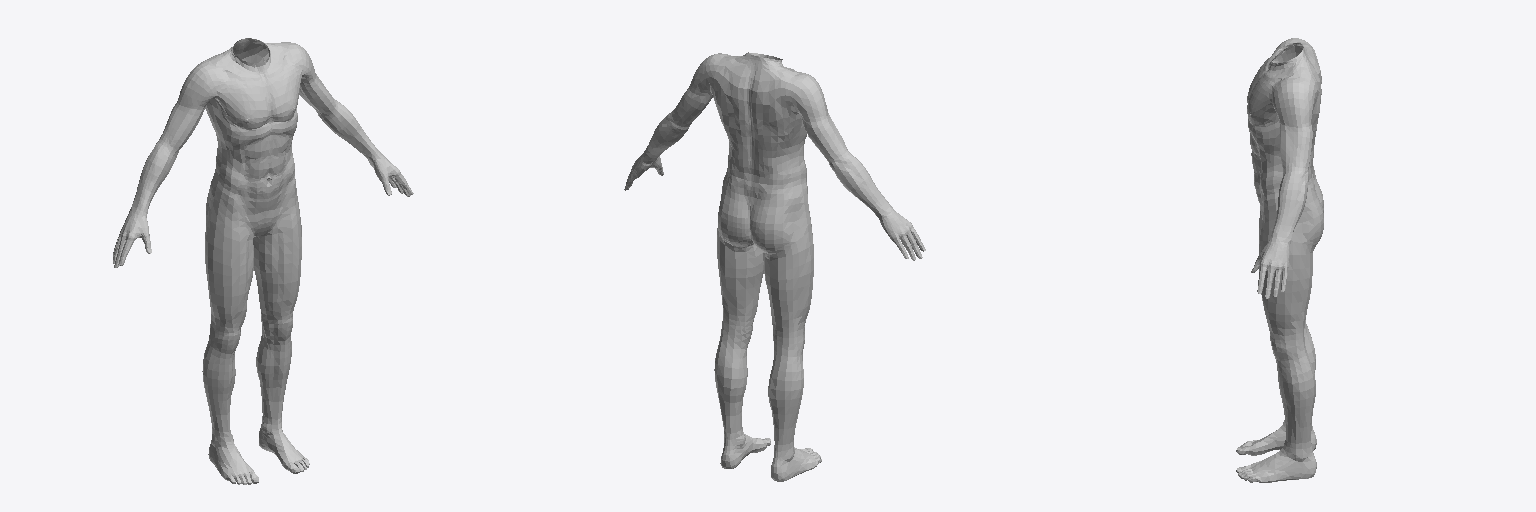
Rendered from p2a_bodyMale.obj.
3 views of the same model, side by side, from view 1: azimuth 30°, elevation 25°; view 2: azimuth 150°, elevation 25°; view 3: azimuth 270°, elevation 25° (orthographic).
Parts seen in each view (by area): view 1: Object001; view 2: Object001; view 3: Object001.
Part boxes in pixels (x1,y1,x2,y2): Object001: (113, 38, 413, 484); Object001: (624, 52, 925, 481); Object001: (1236, 38, 1323, 482).
Bounding box in the file's own units: 1.15 × 1.55 × 0.2956.